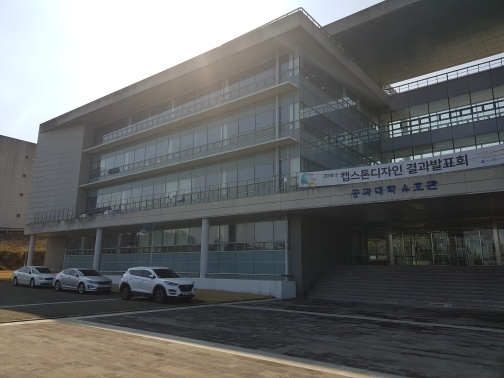Engineering College Building 4: (53, 88, 496, 264), (311, 31, 488, 262), (343, 177, 455, 210)
